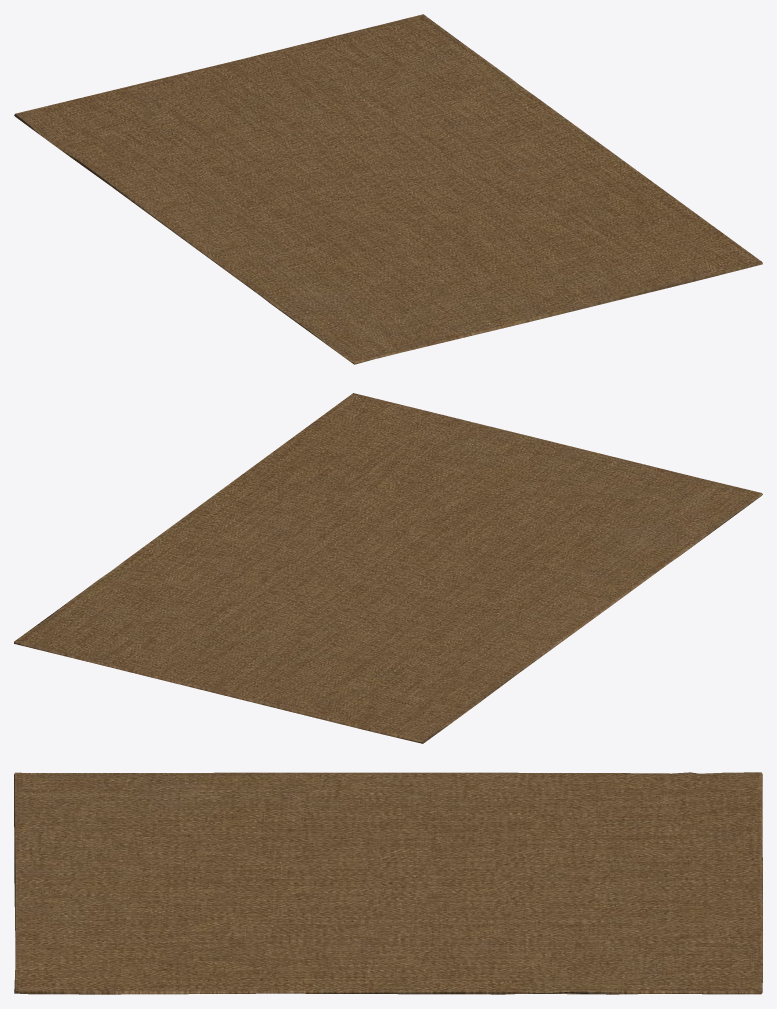
File: 19 - LYDERSHOLM Rug flatwoven, inoutdoor - medium brown 160x230 cm.glb
3 renders of one model, top to bottom at view 1: azimuth 30°, elevation 25°; view 2: azimuth 150°, elevation 25°; view 3: azimuth 270°, elevation 25°, orthographic. The views are drawn at different scales.
Parts seen in each view (by area): view 1: PRT_1oen8tgo_P01_S01_NV01; view 2: PRT_1oen8tgo_P01_S01_NV01; view 3: PRT_1oen8tgo_P01_S01_NV01.
Boxes of the visible parts, x1=… form: PRT_1oen8tgo_P01_S01_NV01: x1=14, y1=14, x2=762, y2=364; PRT_1oen8tgo_P01_S01_NV01: x1=14, y1=393, x2=762, y2=743; PRT_1oen8tgo_P01_S01_NV01: x1=14, y1=772, x2=762, y2=994.
Size of the model in its own units: 1.6 by 0.0121 by 2.3.
1 material, 1 textured.
